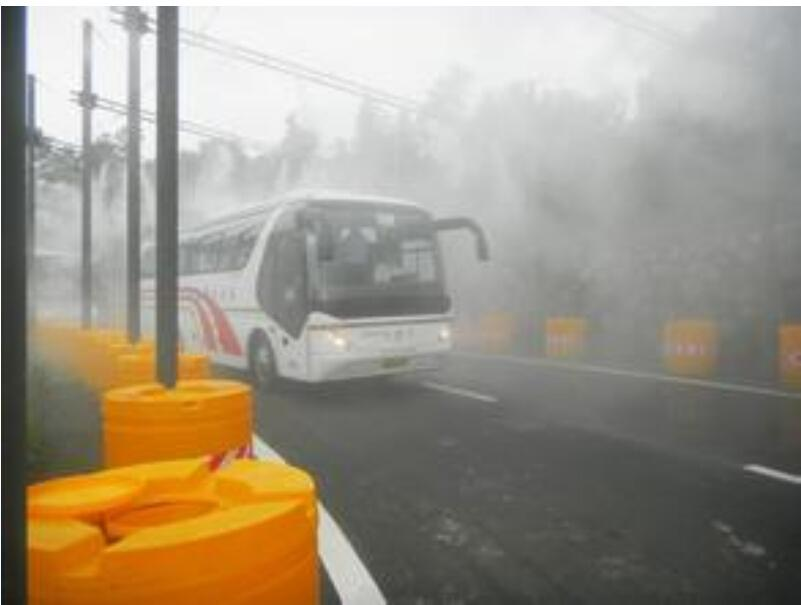bus: (119, 188, 489, 395)
